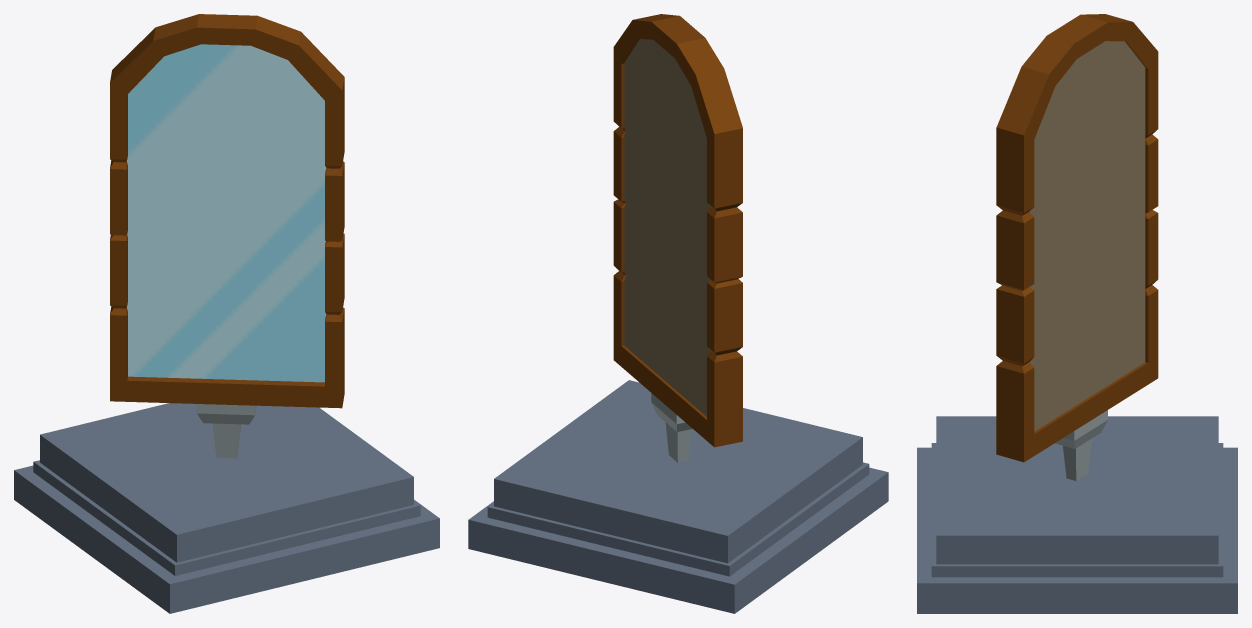
Rendered from StaticMirror.fbx.
3 renders of one model, left to right at view 1: azimuth 30°, elevation 25°; view 2: azimuth 150°, elevation 25°; view 3: azimuth 270°, elevation 25°, orthographic. The views are drawn at different scales.
Visible parts, largest first — view 1: Cube.001; view 2: Cube.001; view 3: Cube.001.
Part boxes in pixels (x1,y1,x2,y2): Cube.001: (14,14,439,613); Cube.001: (468,14,888,613); Cube.001: (917,14,1237,613).
Bounding box in the file's own units: 143 × 254 × 143.
1 material, 1 textured.
